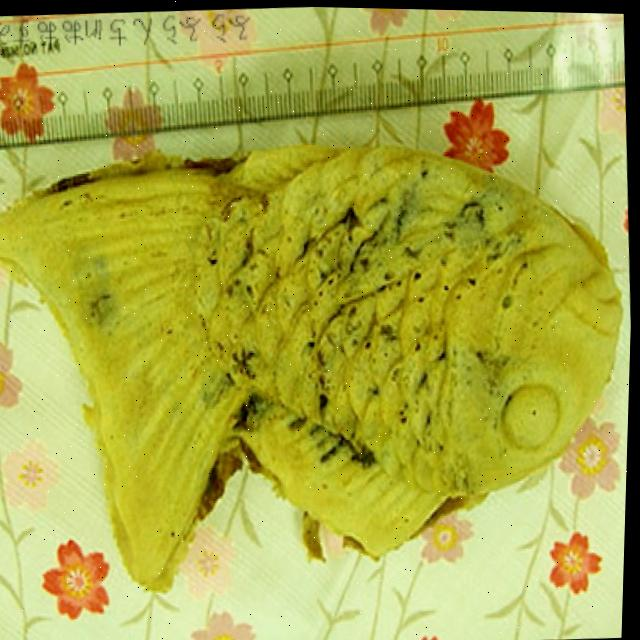熟制海鲜: (0, 117, 637, 608)
